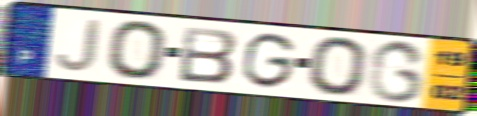B: (176, 24, 240, 85)
G: (365, 38, 428, 104), (239, 31, 299, 91)
J: (53, 18, 103, 73)
O: (306, 34, 371, 98), (105, 18, 170, 81)
